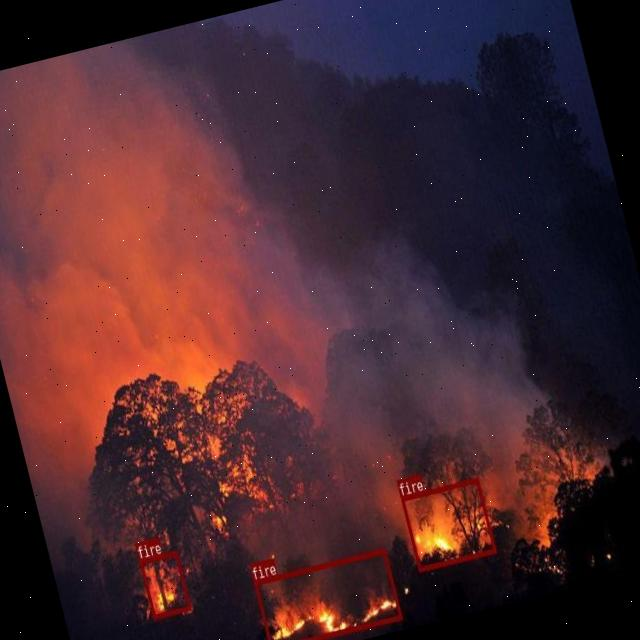fire: (253, 548, 402, 640), (400, 476, 495, 570), (138, 550, 190, 618)
